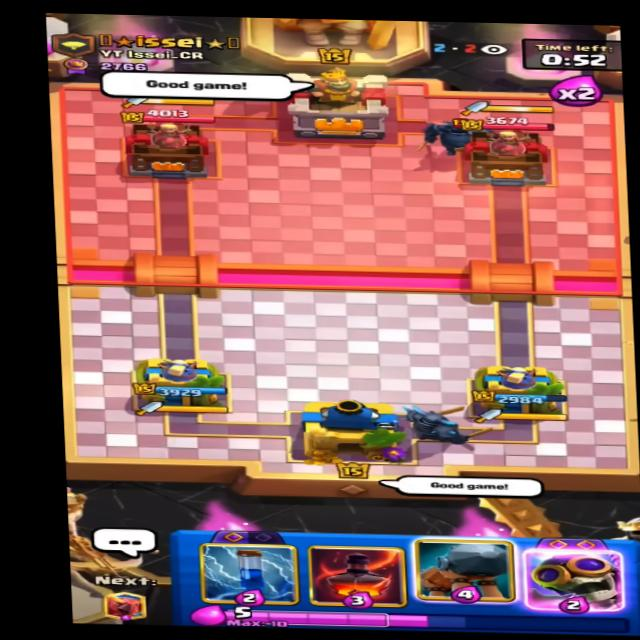pekka: (419, 109, 499, 154)
